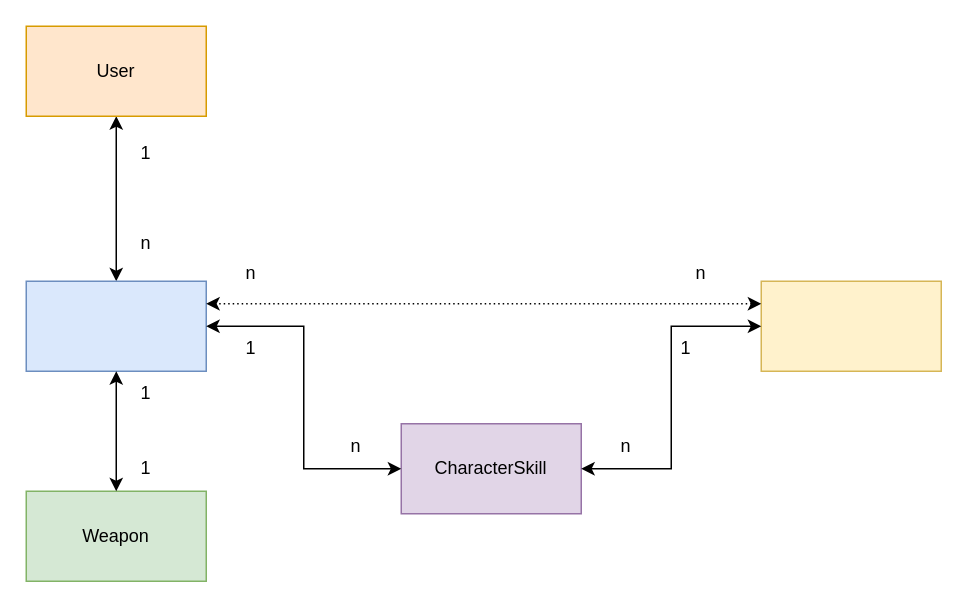
This 968x608 diagram has some shape labels left out. Each missing label, with the box of its shape:
Character: (25, 280, 206, 371)
Skill: (760, 280, 941, 371)
